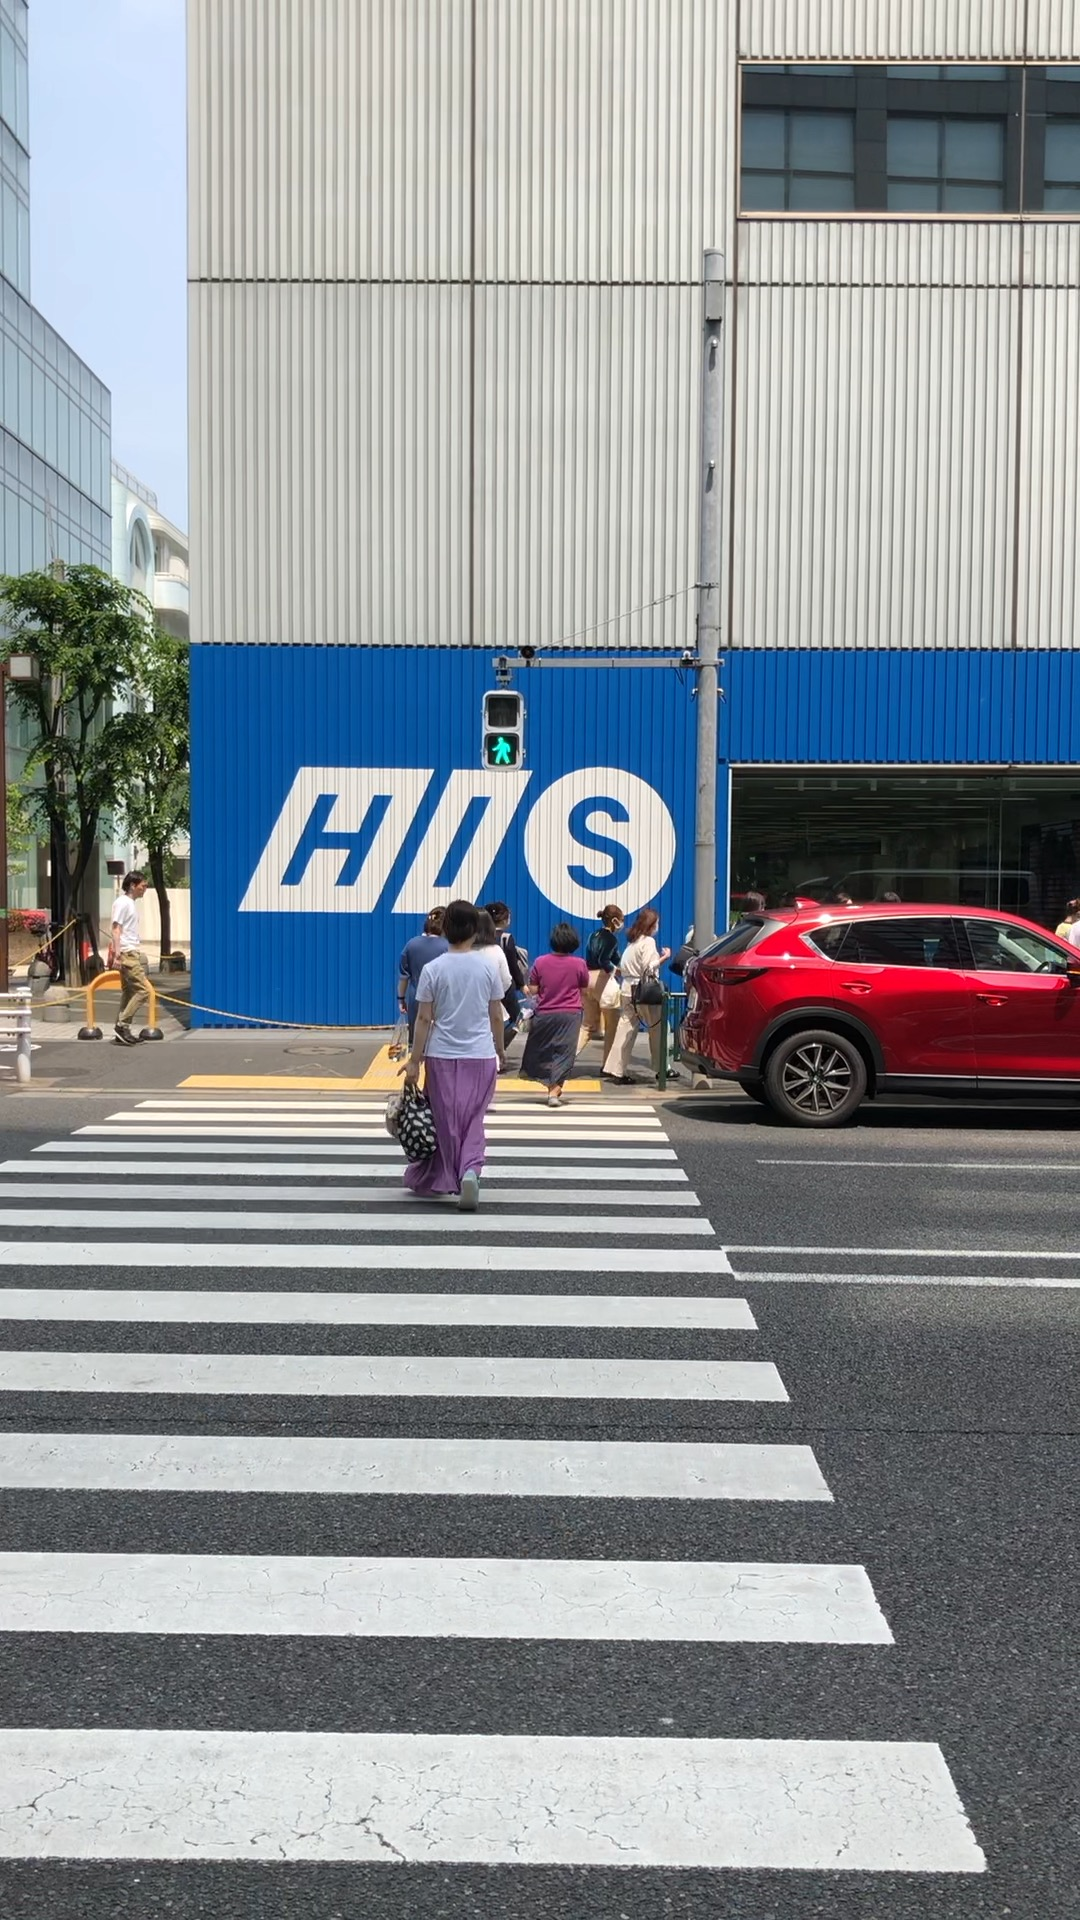green: (477, 688, 526, 771)
